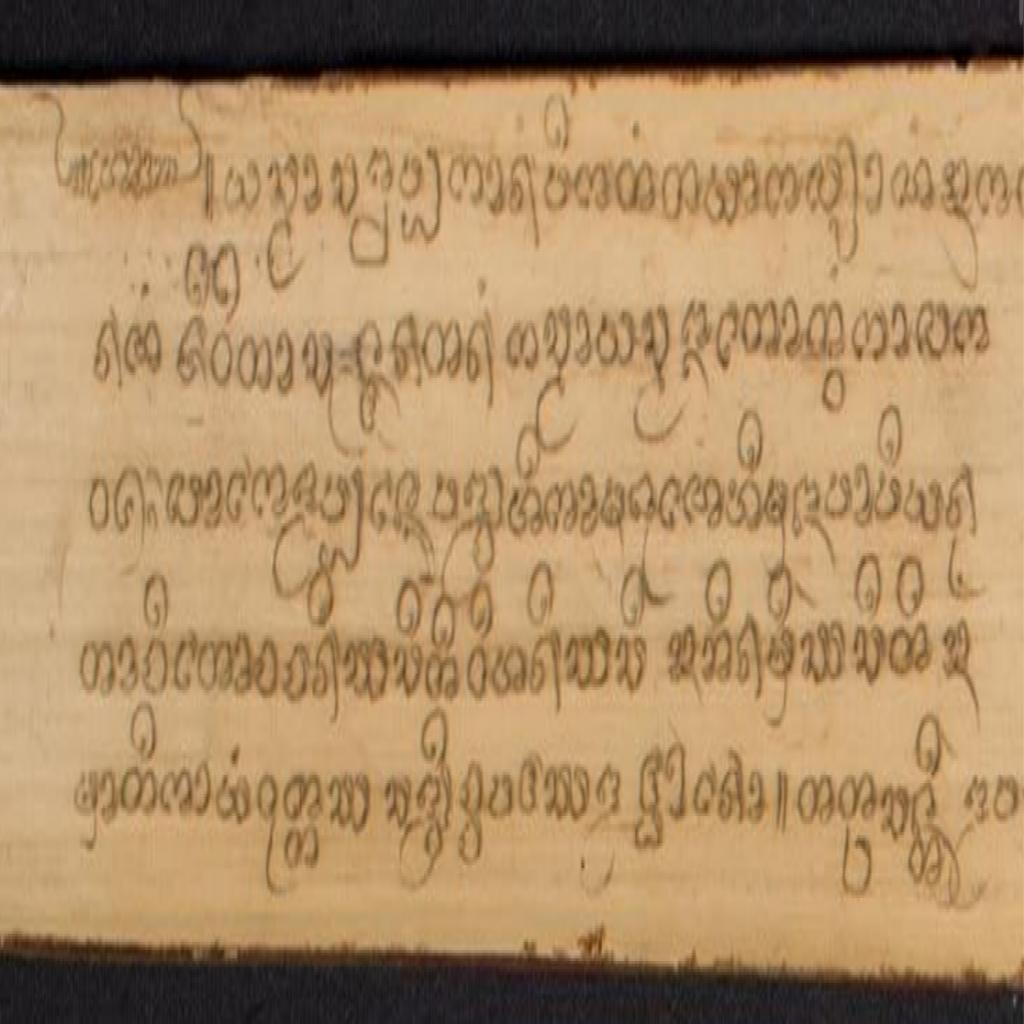LN005: (113, 461, 148, 540)
LN012: (327, 765, 374, 845)
